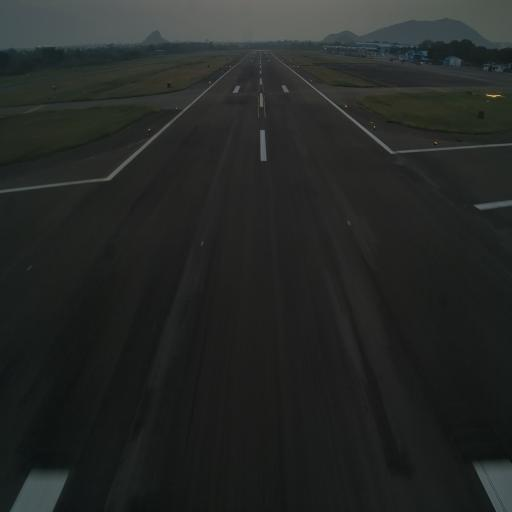on: (147, 125, 152, 133), (433, 140, 439, 146), (372, 123, 376, 132)
